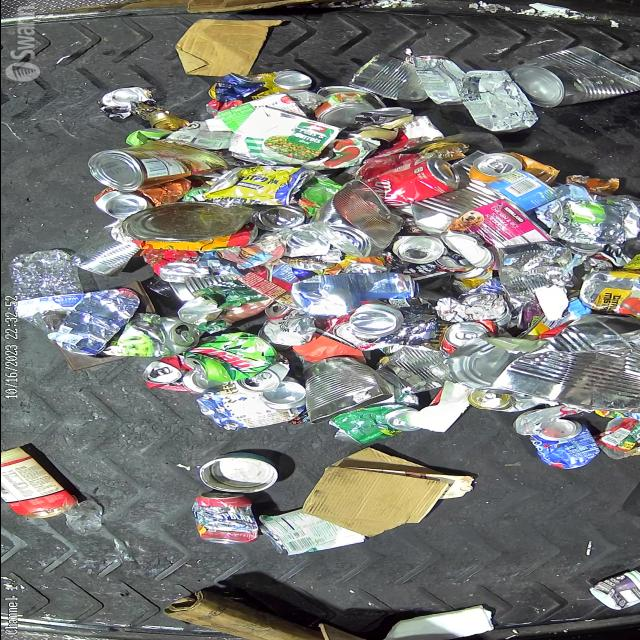can: (489, 313, 640, 414), (504, 46, 640, 108), (441, 199, 556, 271), (86, 139, 228, 192), (312, 178, 405, 258), (195, 376, 307, 432), (300, 356, 392, 424), (258, 508, 366, 556), (181, 332, 277, 382), (370, 156, 460, 208), (494, 241, 574, 297), (205, 165, 315, 205), (92, 178, 191, 220), (374, 346, 456, 396), (526, 418, 599, 470), (351, 54, 426, 104), (546, 198, 624, 244), (327, 406, 418, 445), (190, 492, 258, 544), (198, 452, 279, 494), (483, 170, 560, 212), (126, 314, 201, 356), (208, 70, 306, 102), (467, 152, 559, 186), (405, 55, 466, 106), (140, 355, 218, 394), (68, 240, 138, 276), (314, 92, 376, 128), (233, 353, 290, 391), (347, 302, 403, 338), (96, 86, 156, 119), (464, 388, 542, 412), (344, 106, 412, 132), (439, 321, 491, 355), (382, 235, 444, 263), (429, 250, 474, 272), (266, 68, 310, 90), (147, 107, 191, 129)
plastic_bottle: (11, 249, 84, 340)
